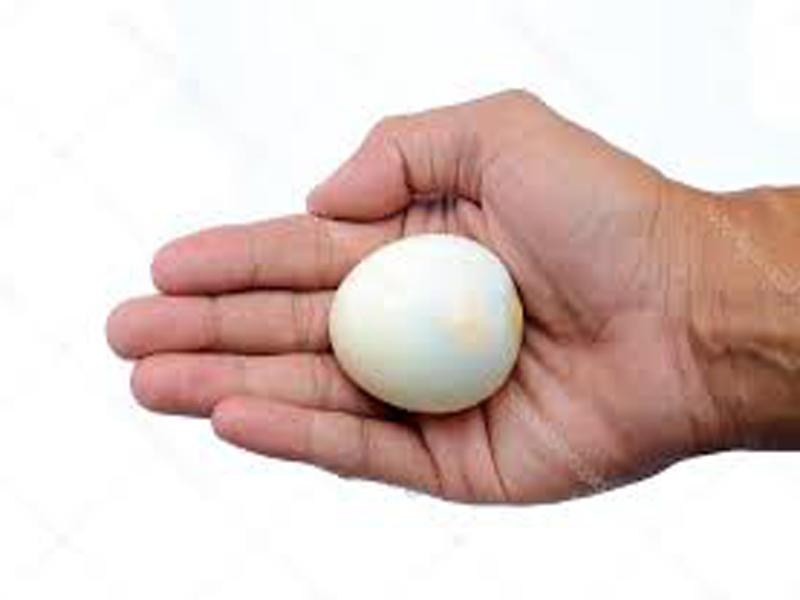Eggs: (325, 237, 522, 409)
